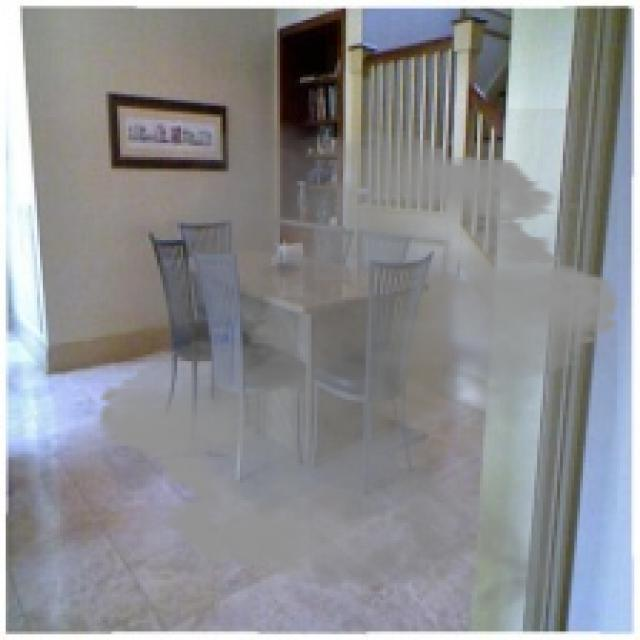Smoke: (80, 109, 637, 626)
